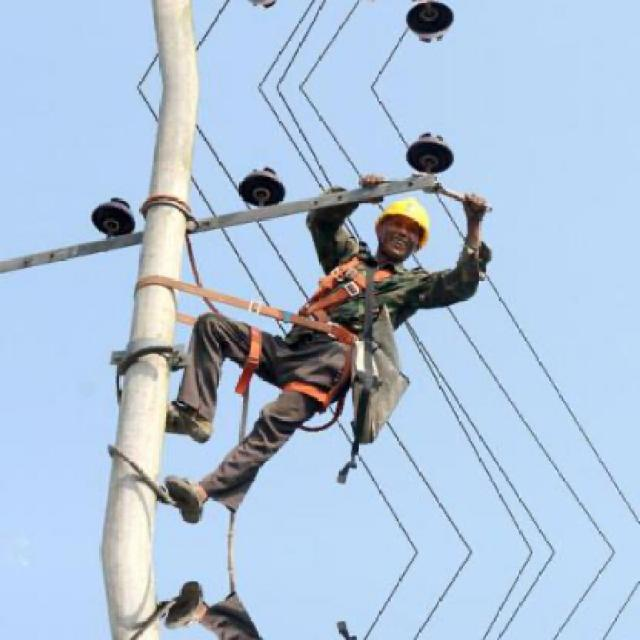helmet: (372, 191, 436, 266)
